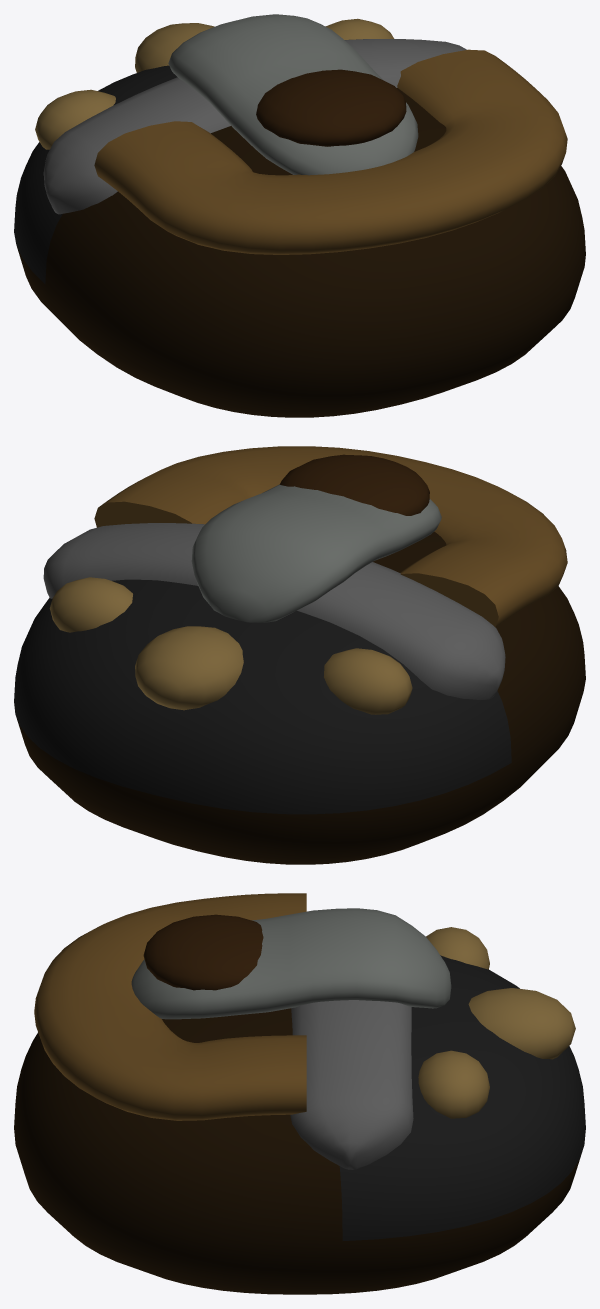
Rendered from pod.glb.
3 views of the same model, one above another, from view 1: azimuth 30°, elevation 25°; view 2: azimuth 150°, elevation 25°; view 3: azimuth 270°, elevation 25° (orthographic).
Parts seen in each view (by area): view 1: shell, horseshoe, visor, bar, lens, knob1, knob0, knob2; view 2: shell, horseshoe, bar, visor, knob0, lens, knob1, knob2; view 3: shell, horseshoe, visor, bar, lens, knob0, knob2, knob1.
Part boxes in pixels (<box>): shell: <box>14,65,585,417</box>; horseshoe: <box>94,49,567,254</box>; visor: <box>168,14,418,175</box>; bar: <box>43,39,466,214</box>; lens: <box>256,69,406,146</box>; knob1: <box>35,89,115,149</box>; knob0: <box>135,23,214,72</box>; knob2: <box>325,18,394,39</box>; shell: <box>14,531,585,864</box>; horseshoe: <box>94,446,567,627</box>; bar: <box>43,523,505,699</box>; visor: <box>191,484,441,622</box>; knob0: <box>135,626,243,710</box>; lens: <box>279,454,429,515</box>; knob1: <box>324,648,412,714</box>; knob2: <box>49,577,132,632</box>; shell: <box>14,955,585,1294</box>; horseshoe: <box>34,893,306,1120</box>; visor: <box>131,908,451,1019</box>; bar: <box>290,1000,413,1169</box>; lens: <box>143,914,263,990</box>; knob0: <box>468,988,575,1059</box>; knob2: <box>418,1050,489,1118</box>; knob1: <box>426,927,489,969</box>.
Bounding box in the file's own units: 16 × 10.42 × 17.
